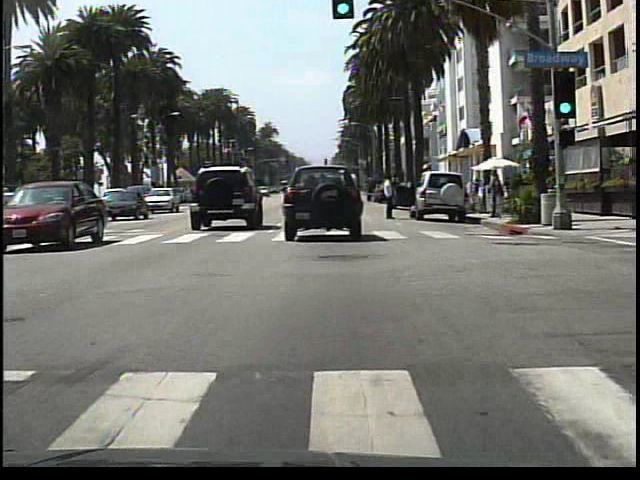person: (379, 169, 401, 225)
